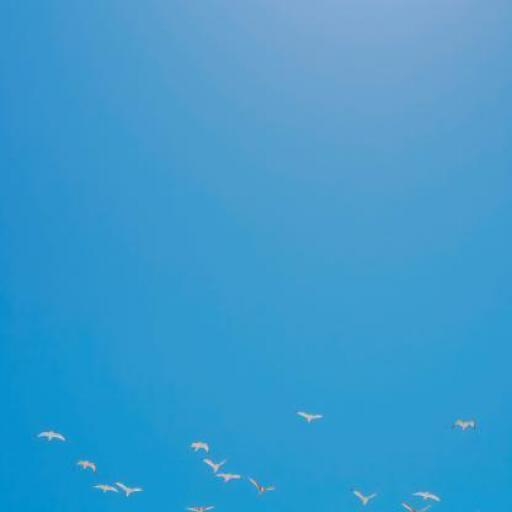bird: (296, 411, 325, 425), (249, 477, 276, 492), (202, 457, 227, 473), (116, 483, 142, 497), (37, 430, 67, 441), (354, 492, 377, 506), (401, 502, 431, 512), (413, 492, 440, 502), (453, 418, 476, 429), (77, 460, 96, 472), (191, 441, 209, 452), (217, 473, 241, 481), (94, 485, 118, 492), (186, 507, 216, 512)
